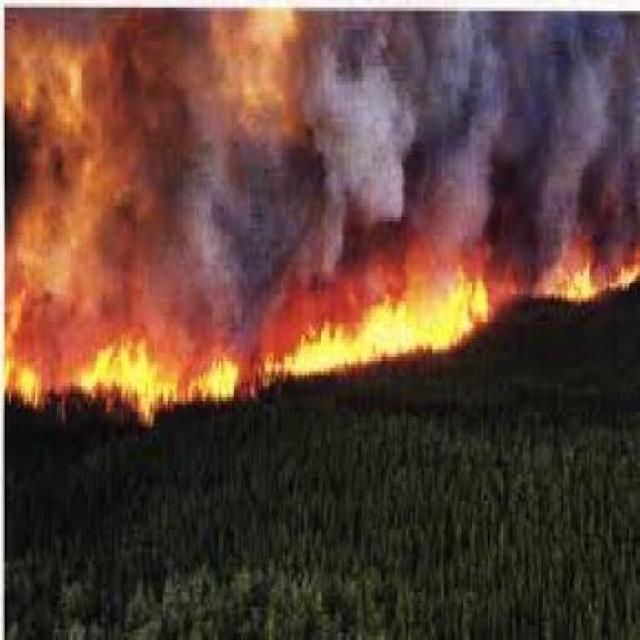Fire: (8, 258, 518, 442), (513, 249, 640, 310)
Smoke: (15, 11, 640, 252)
